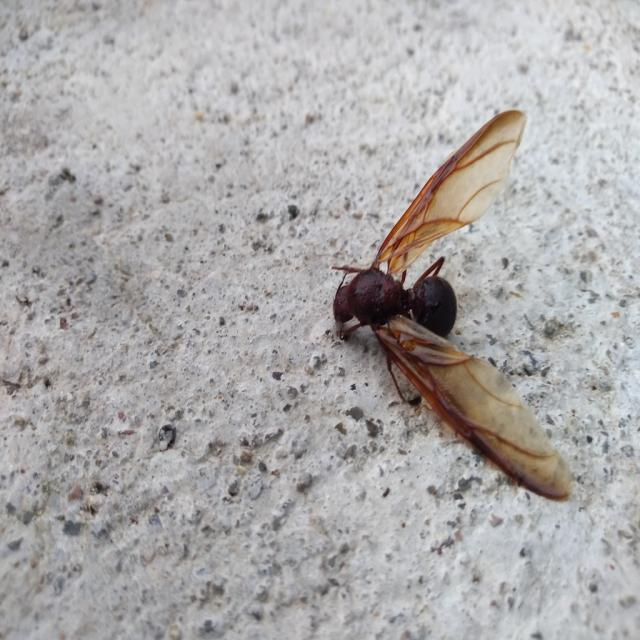Dead-Female-Alate: (328, 110, 574, 507)
